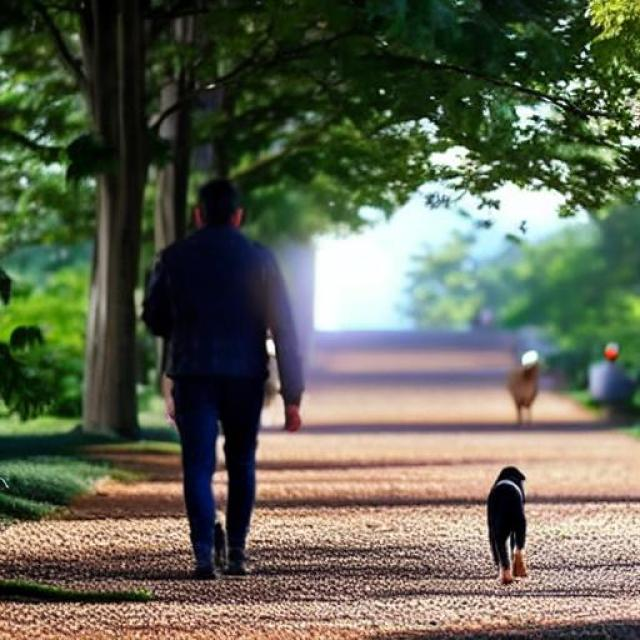Unleashed_Dog: (222, 404, 528, 585)
